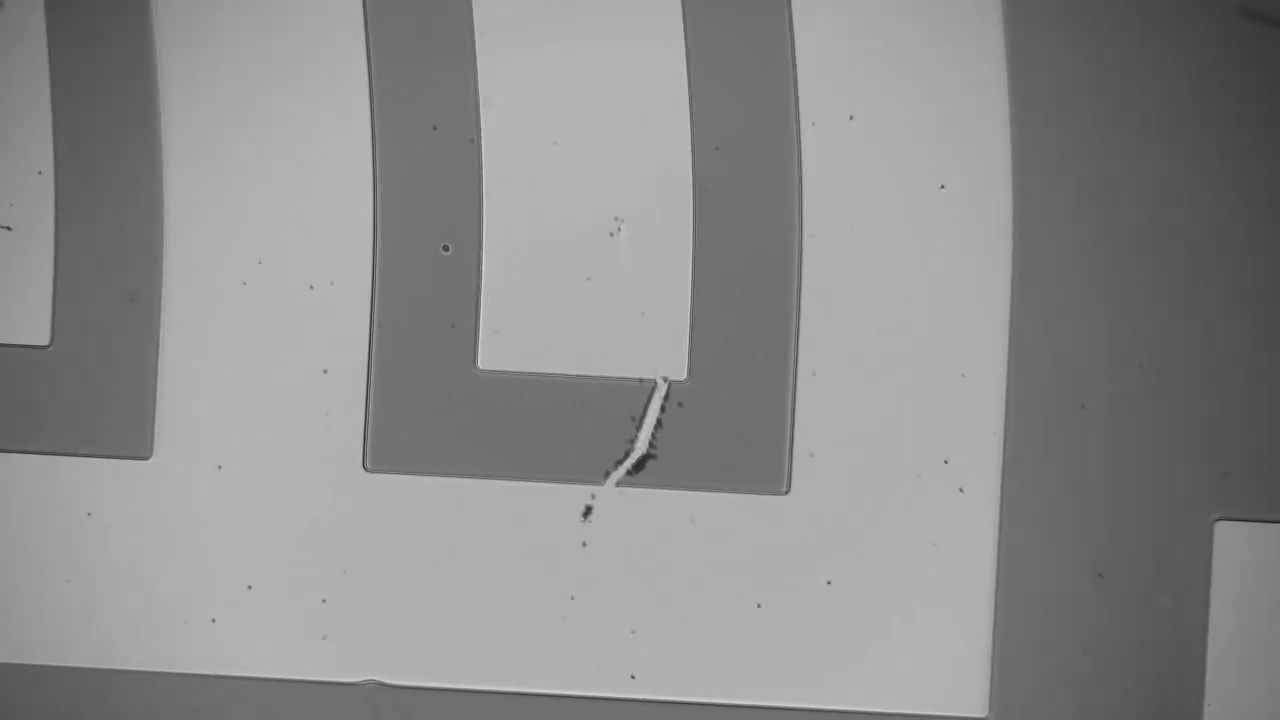Short_circuit: (585, 366, 685, 511)
